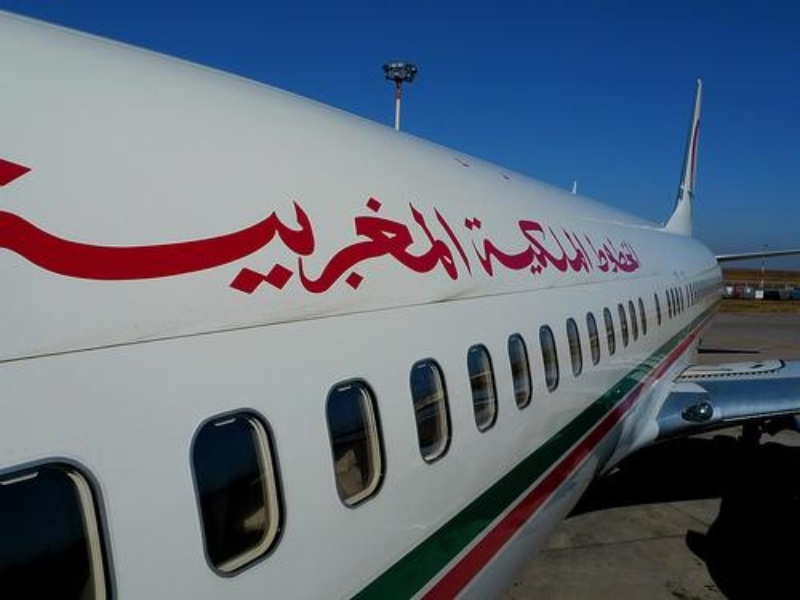text: (1, 154, 16, 321), (17, 154, 32, 321), (33, 154, 48, 321), (49, 154, 64, 321), (65, 154, 80, 321), (81, 154, 96, 321), (97, 154, 112, 321), (113, 154, 128, 321), (129, 154, 144, 321), (145, 154, 160, 321), (161, 154, 176, 321), (177, 154, 192, 321), (193, 154, 208, 321), (209, 154, 224, 321), (225, 154, 240, 321), (241, 154, 256, 321), (257, 154, 272, 321), (273, 154, 288, 321), (289, 154, 304, 321), (305, 154, 320, 321), (321, 154, 336, 321), (337, 154, 352, 321), (353, 154, 368, 321), (369, 154, 384, 321), (385, 154, 400, 321), (401, 154, 416, 321), (417, 154, 432, 321), (433, 154, 448, 321), (449, 154, 464, 321), (465, 154, 477, 321), (465, 215, 480, 277), (481, 215, 496, 277), (497, 215, 512, 277), (513, 215, 528, 277), (529, 215, 544, 277), (545, 215, 560, 277), (561, 215, 576, 277), (577, 215, 592, 277), (593, 233, 608, 274), (609, 233, 624, 274), (625, 233, 640, 274), (583, 233, 592, 274), (461, 215, 464, 277), (593, 215, 596, 277), (641, 233, 645, 274)
